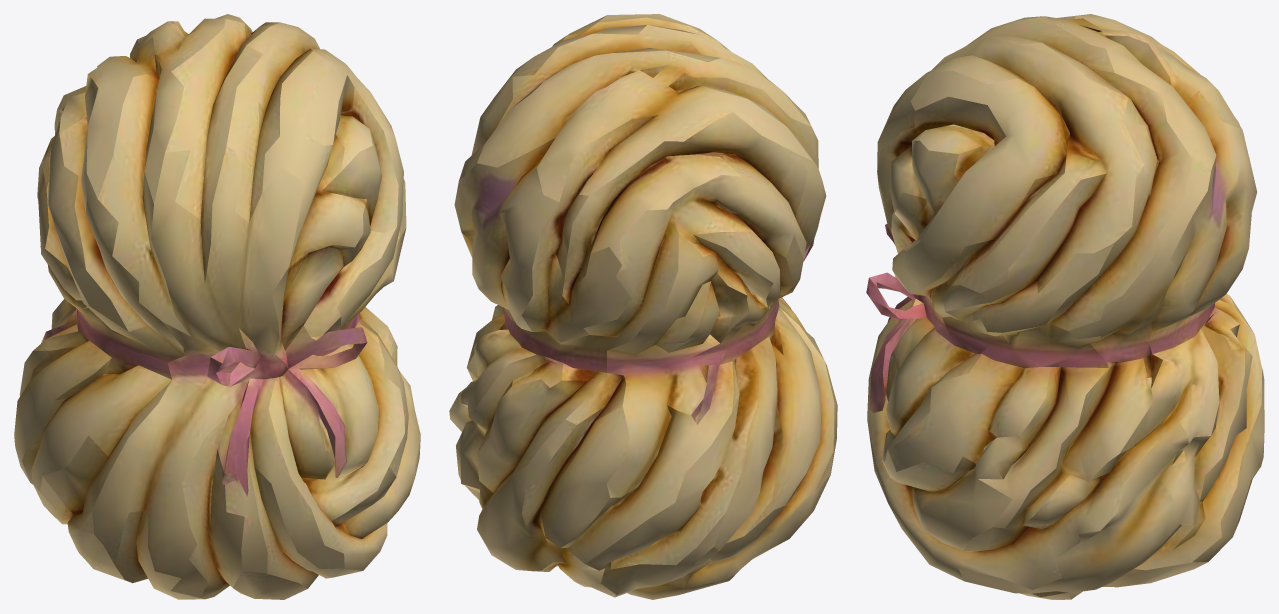
File: fine_wool.glb
The picture shows the model from 3 angles, left to right: view 1: azimuth 30°, elevation 25°; view 2: azimuth 150°, elevation 25°; view 3: azimuth 270°, elevation 25°; orthographic projection. The views are drawn at different scales.
Visible parts, largest first — view 1: fine_wool; view 2: fine_wool; view 3: fine_wool.
Part boxes in pixels (x1,y1,x2,y2): fine_wool: (14, 14, 420, 599); fine_wool: (449, 14, 837, 599); fine_wool: (866, 14, 1264, 599).
Bounding box in the file's own units: 0.6732 × 1 × 0.6789.
Materials: 1 (1 with a texture image).
